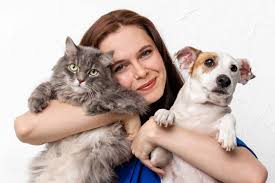cat: (28, 37, 146, 183)
dog: (153, 45, 254, 183)
